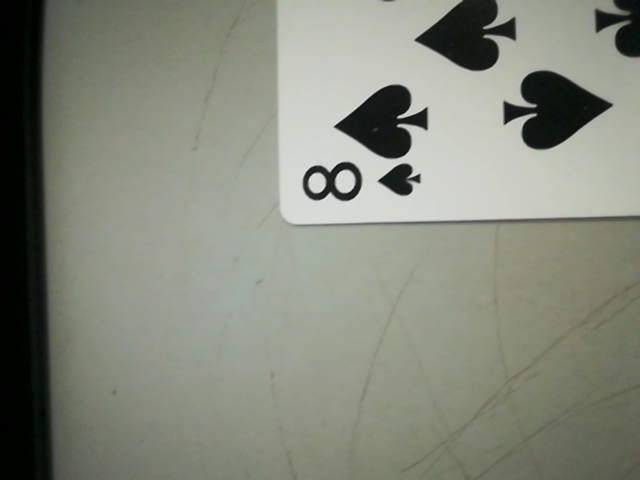ht 8: (289, 144, 436, 219)
